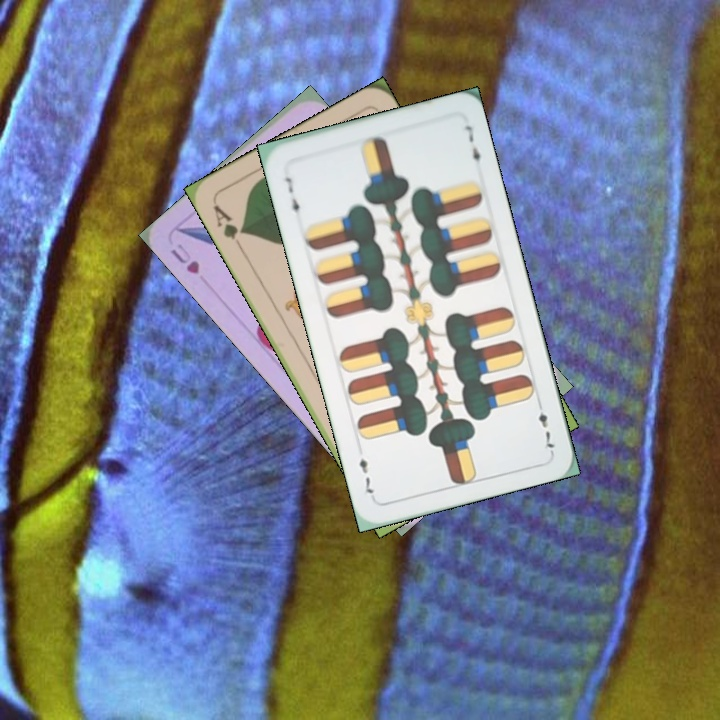E7: (533, 396, 557, 454), (280, 172, 302, 222)
GA: (209, 201, 249, 253)
HU: (166, 239, 202, 277)
